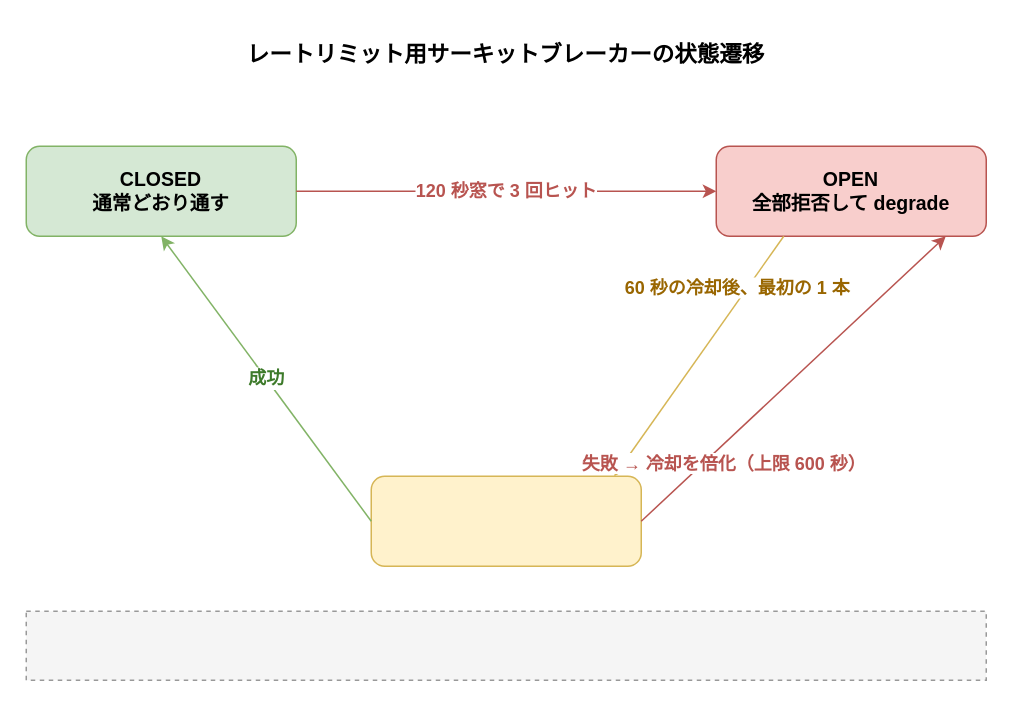
This 1013x707 diagram has some shape labels left out. Here are the shapes that lost their labels. From the top down, the centre of each, then its label:
At (x=505, y=520): "HALF_OPEN 同時に 1 本だけ通す".
At (x=505, y=645): "半開の試行枠は必ず解放する。締め忘れると、レートリミットが解消しても永久に全拒否のまま止まり続ける。".
